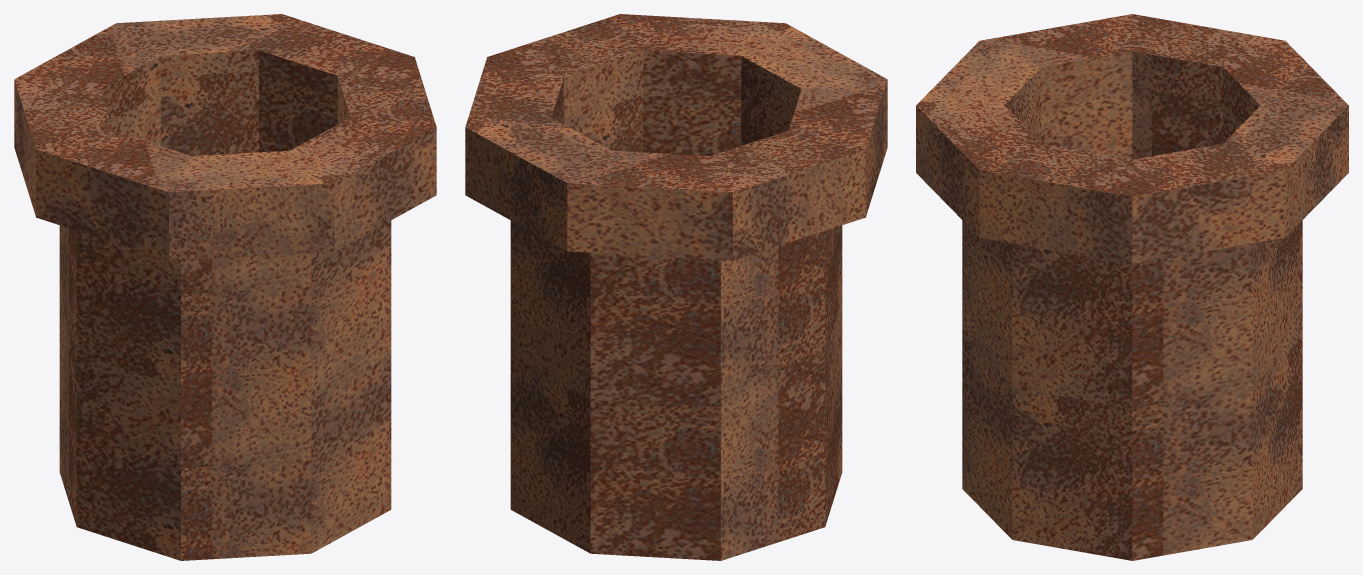
3 renders of one model, left to right at view 1: azimuth 30°, elevation 25°; view 2: azimuth 150°, elevation 25°; view 3: azimuth 270°, elevation 25°, orthographic.
Parts seen in each view (by area): view 1: 土管; view 2: 土管; view 3: 土管.
Part boxes in pixels (left/top/right/bottom): 土管: left=14, top=14, right=436, bottom=560; 土管: left=465, top=14, right=887, bottom=560; 土管: left=916, top=14, right=1348, bottom=560.
Size of the model in its own units: 50.89 by 49.78 by 50.89.
1 material, 1 textured.
